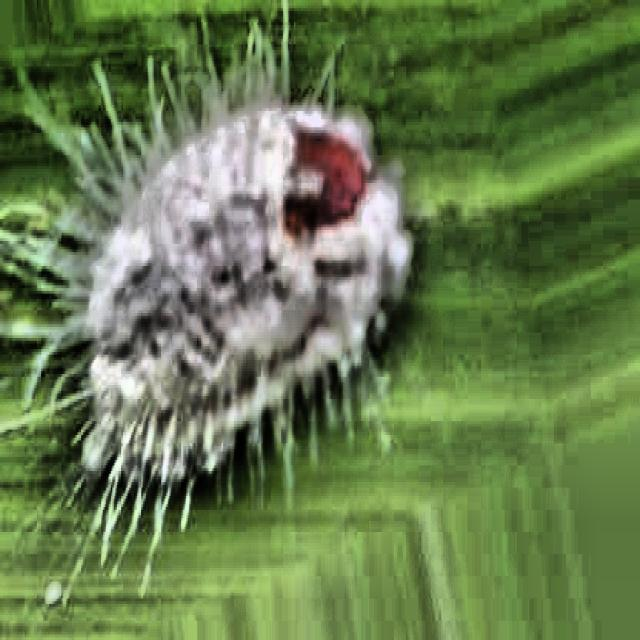Mealy-bug: (27, 44, 399, 546)
